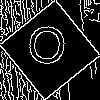O: (25, 25, 68, 75)
